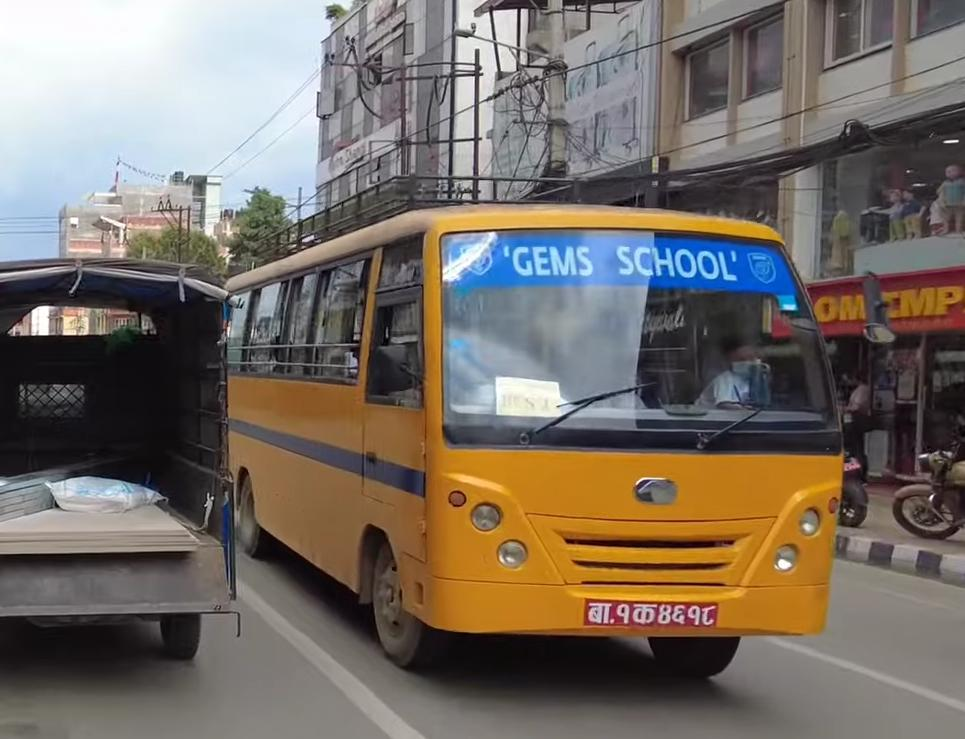bike: (890, 433, 965, 537)
school_bus: (202, 201, 856, 682)
